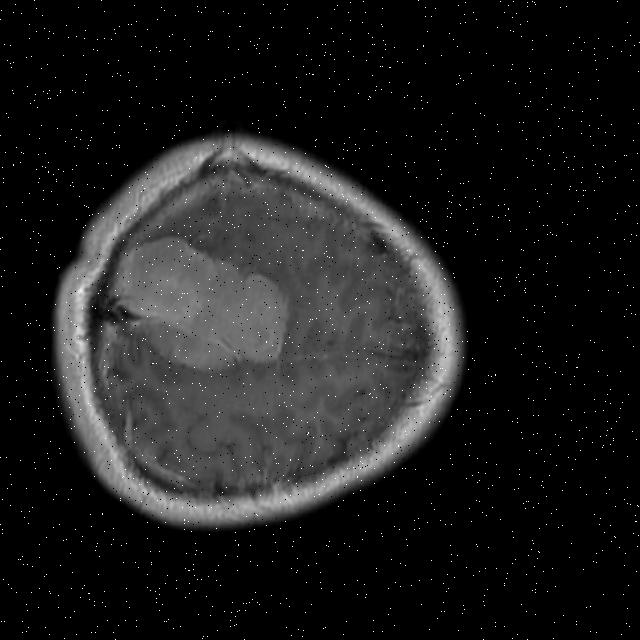Meningioma: (99, 231, 296, 376)
